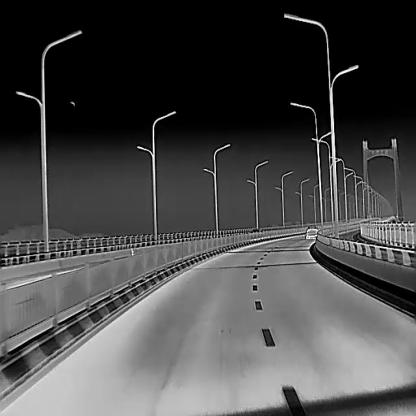car: (305, 223, 318, 238)
